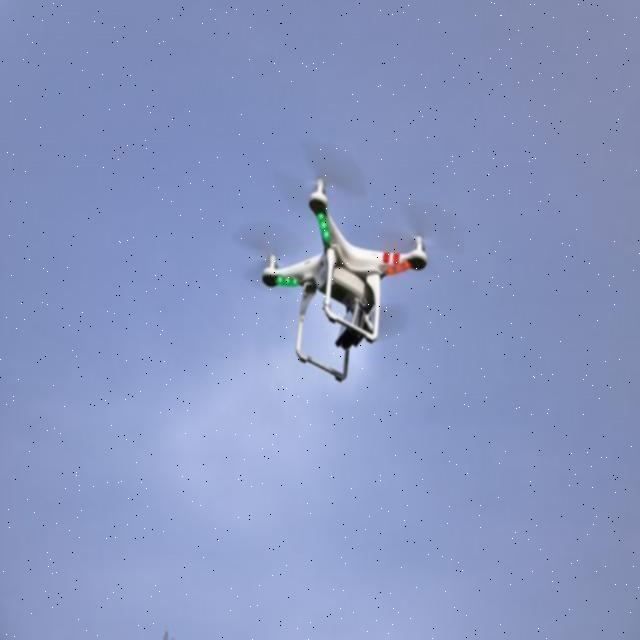UAV: (259, 174, 430, 386)
